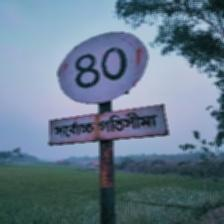Speed-limit: (48, 30, 164, 147)
